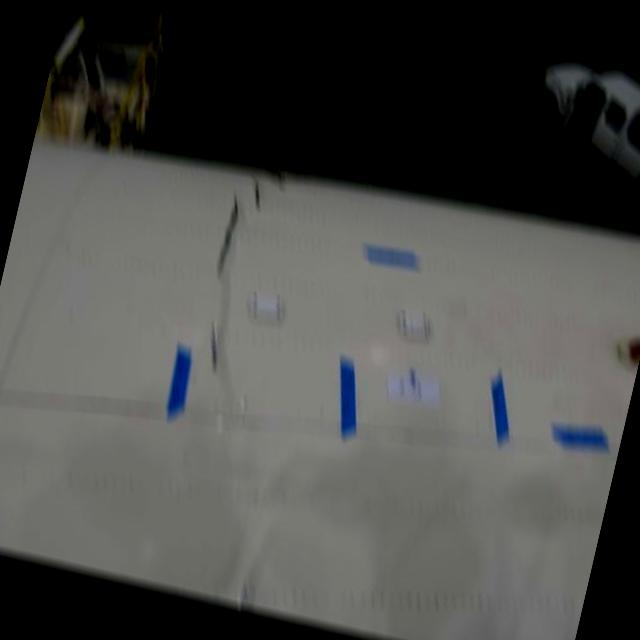crack: (210, 192, 246, 286), (202, 321, 232, 377), (240, 173, 270, 214)
